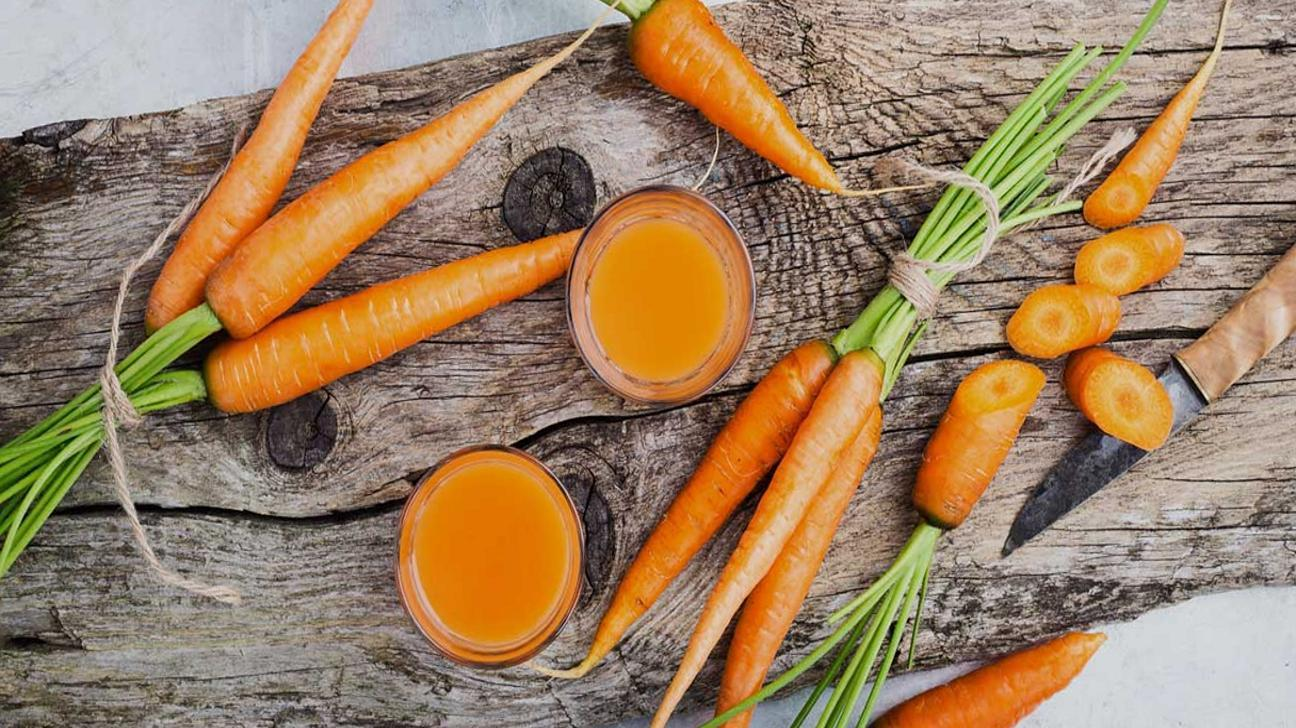carrot: (114, 0, 561, 411), (664, 327, 875, 726), (614, 0, 888, 195), (604, 454, 787, 728), (860, 613, 1105, 728), (910, 354, 1038, 534)
